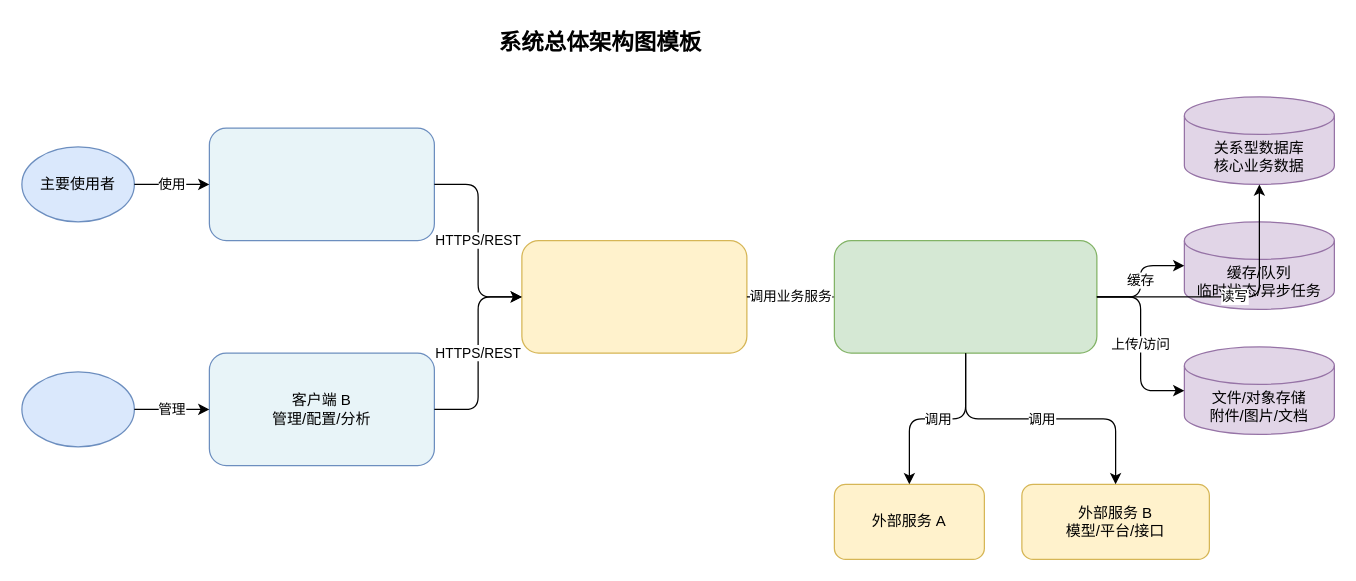
The diagram is 1356 pixels wide and 581 high, and some of its shapes have lost their labels. The shapes that lost their labels are listed below. From the top down, each one's centre as x and y in pixels, then its label:
At [321,184]: "客户端 A 核心页面/主要功能".
At [634,296]: "统一接口层 鉴权/参数校验/异常处理".
At [965,296]: "业务服务层 模块A/模块B/模块C".
At [77,409]: "管理/维护者".
